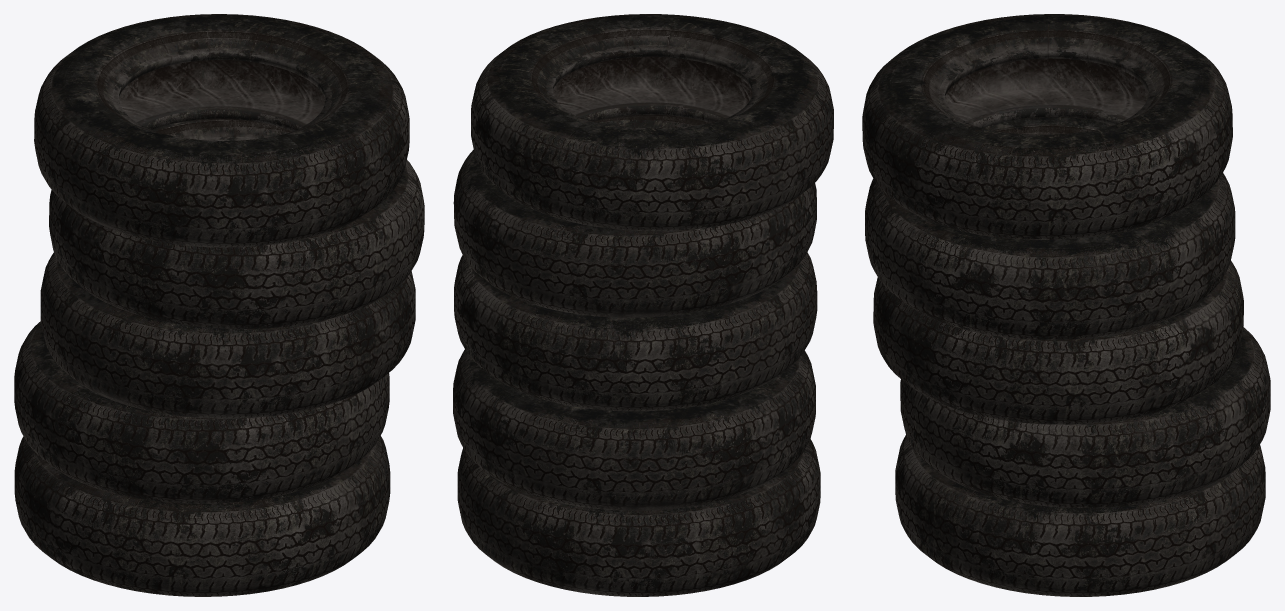
File: lastik_kulesi.gltf
3 views of the same model, side by side, from view 1: azimuth 30°, elevation 25°; view 2: azimuth 150°, elevation 25°; view 3: azimuth 270°, elevation 25° (orthographic). The views are drawn at different scales.
Visible parts, largest first — view 1: lastik_kulesi; view 2: lastik_kulesi; view 3: lastik_kulesi.
Part boxes in pixels (<box>): lastik_kulesi: <box>14,14,424,596</box>; lastik_kulesi: <box>453,14,833,596</box>; lastik_kulesi: <box>862,14,1270,596</box>.
Size of what is drawn, in the model's own units: 0.6353 by 0.8098 by 0.6617.
Materials: 1 (1 with a texture image).
